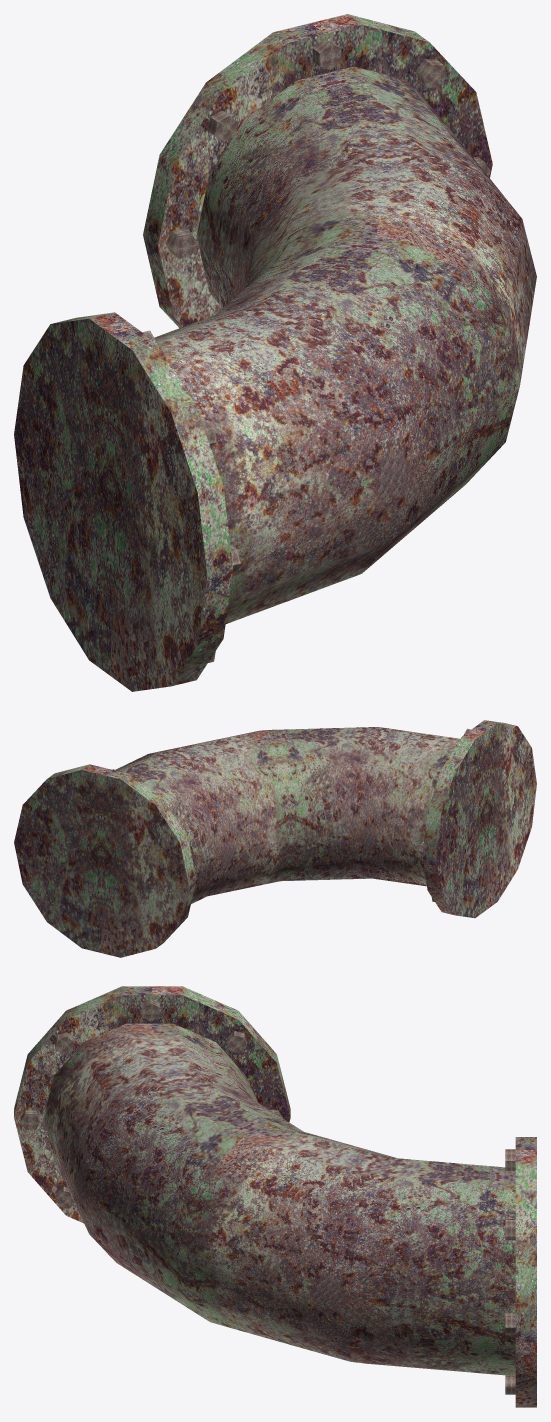
Rendered from pipeCornerNarrow.FBX.
3 renders of one model, top to bottom at view 1: azimuth 30°, elevation 25°; view 2: azimuth 150°, elevation 25°; view 3: azimuth 270°, elevation 25°, orthographic. The views are drawn at different scales.
Parts seen in each view (by area): view 1: pipeCornerSmall; view 2: pipeCornerSmall; view 3: pipeCornerSmall.
Boxes of the visible parts, left/top/right/bottom form: pipeCornerSmall: left=14, top=14, right=536, bottom=691; pipeCornerSmall: left=14, top=720, right=536, bottom=957; pipeCornerSmall: left=14, top=986, right=536, bottom=1407.
Bounding box in the file's own units: 0.4938 × 0.2535 × 0.4915.
Materials: 1 (1 with a texture image).
